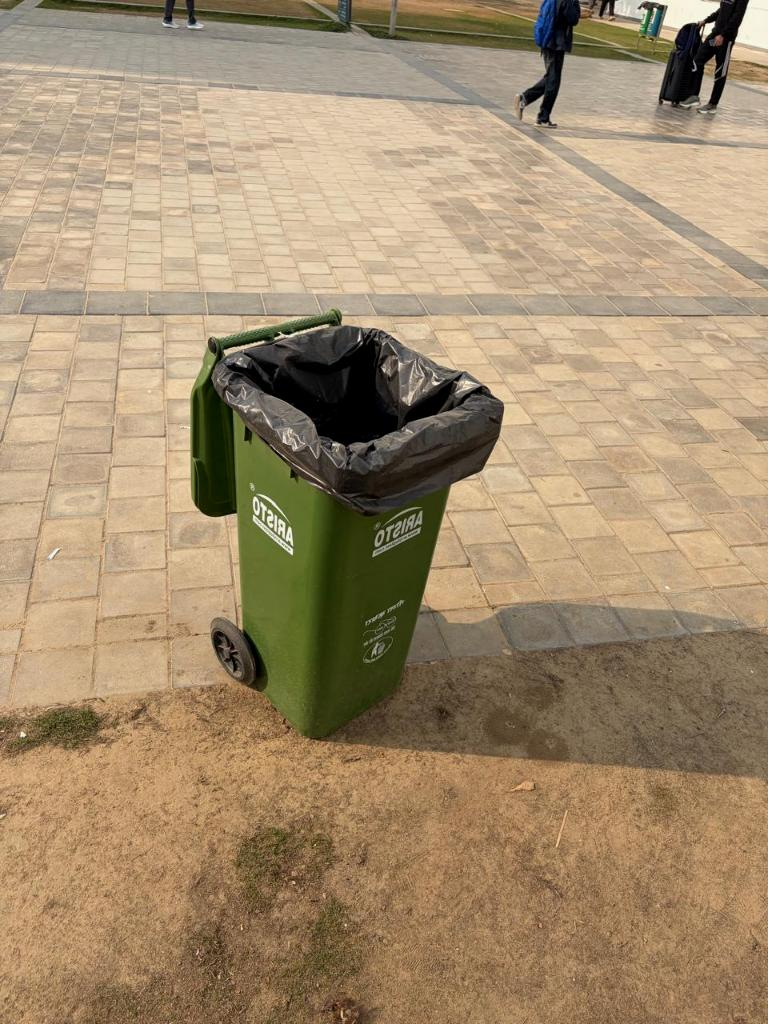dustbin: (149, 299, 525, 754)
